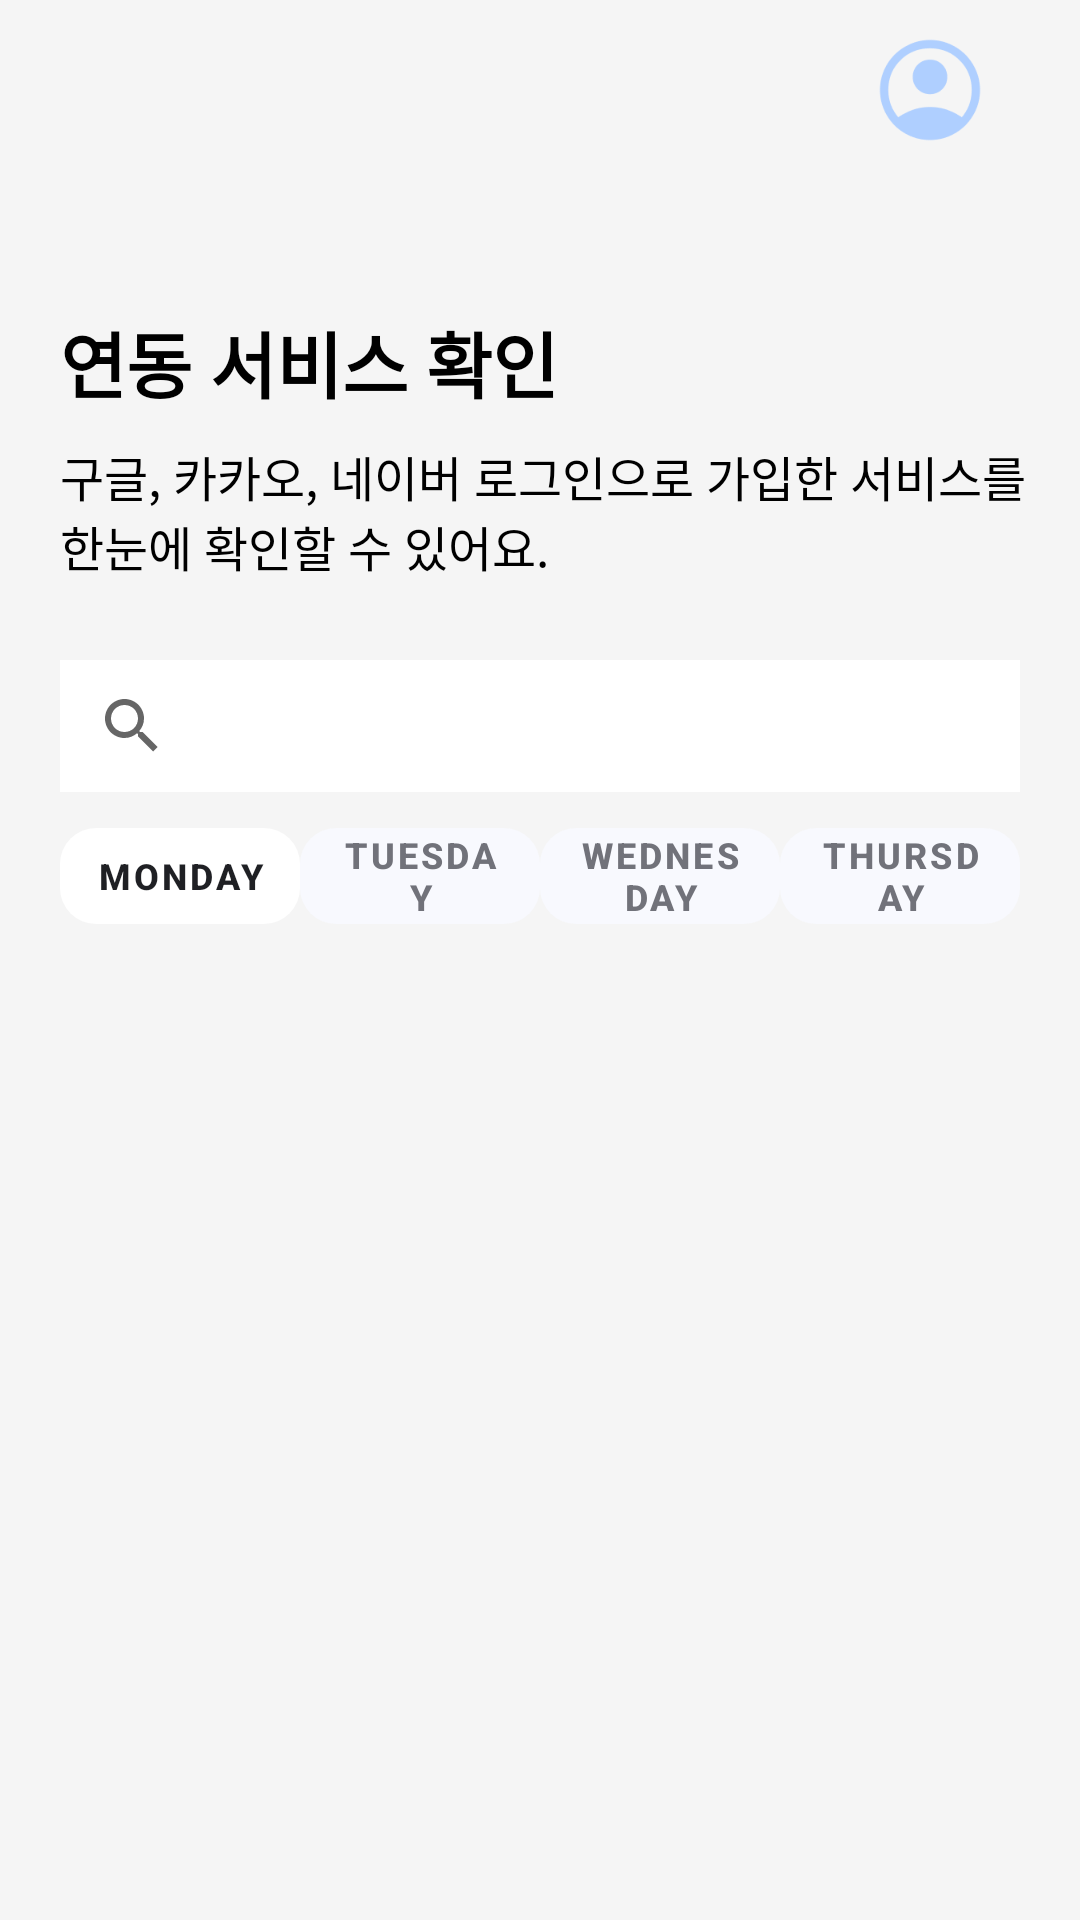

Where icons sit on this 1080px x 1920px app screen, as (x1, y1, x2, y2):
user: (880, 40, 980, 140)
